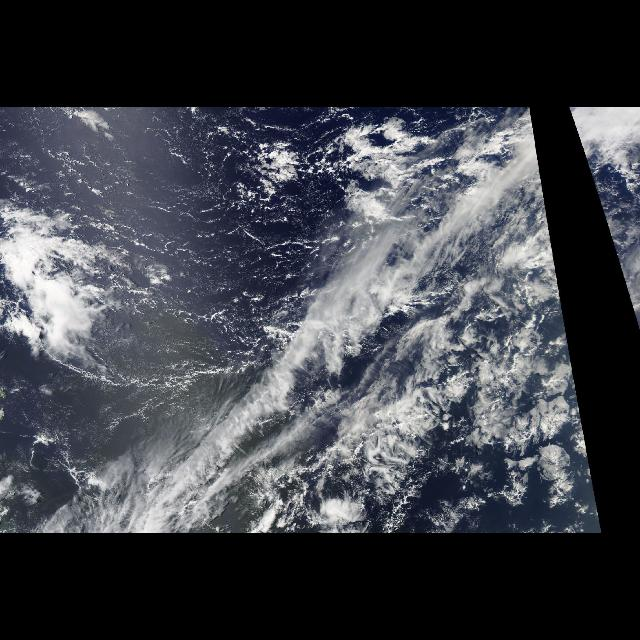Fish: (0, 118, 492, 408)
Flower: (346, 314, 590, 502)
Sugar: (2, 110, 346, 288)
